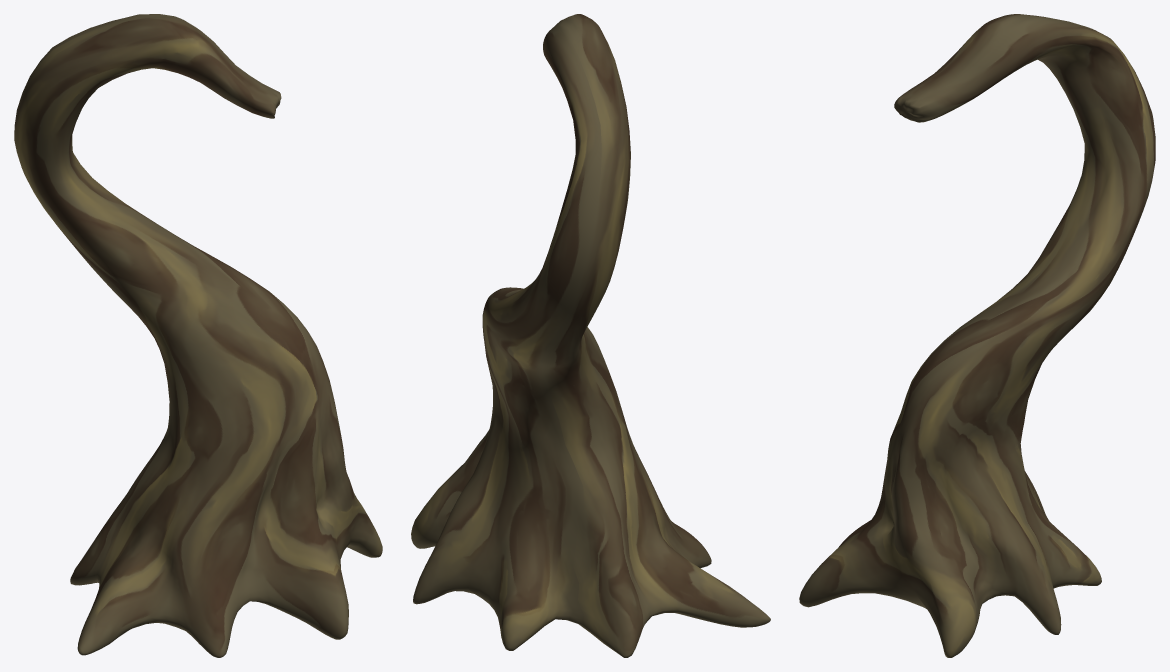
File: SwampTreeHook.fbx
The picture shows the model from 3 angles, left to right: view 1: azimuth 30°, elevation 25°; view 2: azimuth 150°, elevation 25°; view 3: azimuth 270°, elevation 25°; orthographic projection. The views are drawn at different scales.
Visible parts, largest first — view 1: SwampTreeHook; view 2: SwampTreeHook; view 3: SwampTreeHook.
Part boxes in pixels (left/top/right/bottom): SwampTreeHook: left=14, top=14, right=382, bottom=657; SwampTreeHook: left=411, top=14, right=770, bottom=657; SwampTreeHook: left=799, top=14, right=1155, bottom=657.
Bounding box in the file's own units: 601 × 1027 × 587.
Materials: 1 (1 with a texture image).
